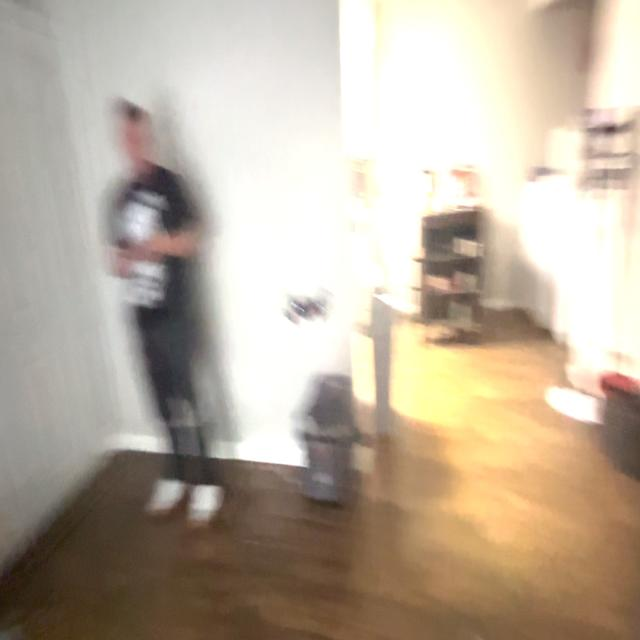drone: (278, 282, 336, 326)
